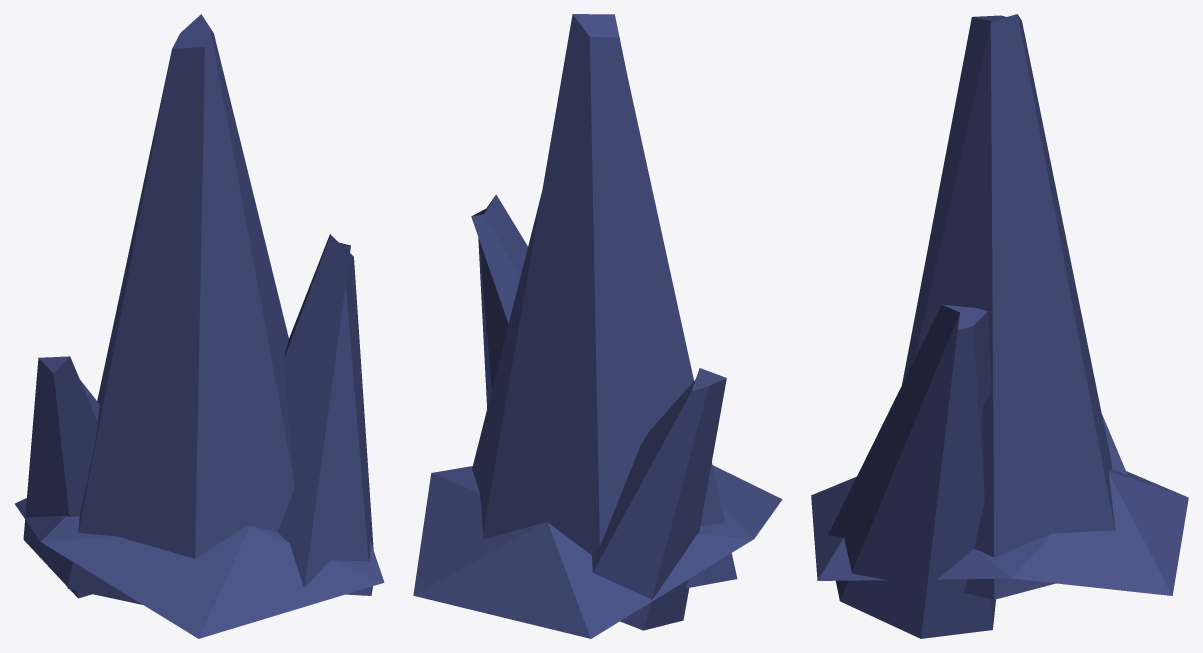
File: stalagmite.glb
3 views of the same model, side by side, from view 1: azimuth 30°, elevation 25°; view 2: azimuth 150°, elevation 25°; view 3: azimuth 270°, elevation 25° (orthographic).
Parts seen in each view (by area): view 1: Spire; view 2: Spire; view 3: Spire.
Boxes of the visible parts, x1,y1,x2,y2 form: Spire: [15, 14, 384, 638]; Spire: [413, 14, 782, 638]; Spire: [811, 14, 1188, 638].
Bounding box in the file's own units: 0.7233 × 1.26 × 0.749.
